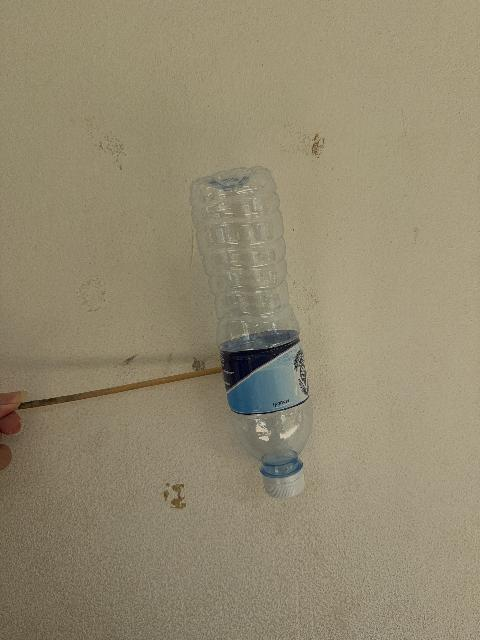bottle: (190, 167, 311, 497)
